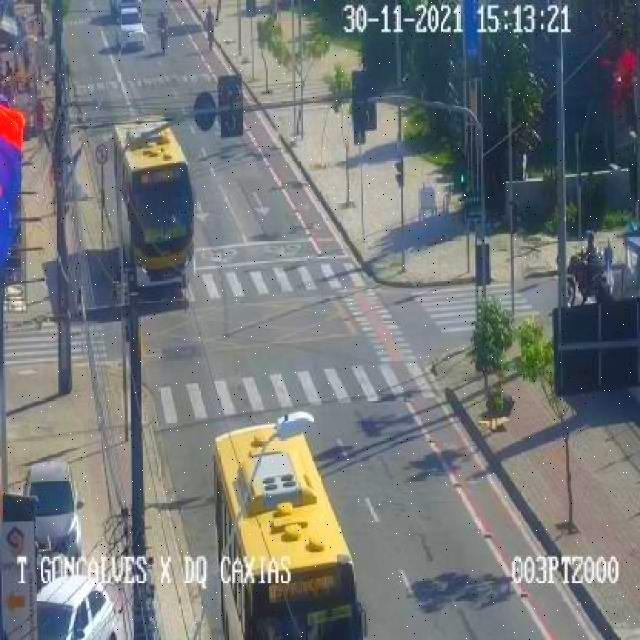Bus: (214, 419, 368, 640), (110, 118, 196, 290)
Car: (25, 461, 88, 564), (36, 570, 116, 640), (117, 7, 146, 49)
Cycle: (562, 258, 615, 306), (159, 24, 168, 54), (208, 22, 215, 48)
